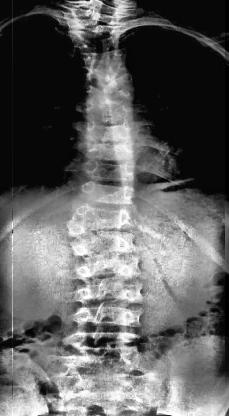Vertebrae: (74, 302, 146, 330), (72, 328, 144, 356), (67, 352, 143, 376), (74, 256, 139, 284), (72, 233, 134, 262), (75, 202, 133, 231), (83, 156, 140, 182), (60, 3, 128, 23), (76, 284, 144, 304), (80, 179, 136, 203), (81, 136, 141, 158), (82, 117, 138, 139), (84, 97, 138, 119), (63, 18, 128, 36), (84, 79, 136, 101), (79, 48, 129, 70), (73, 32, 127, 52), (84, 63, 132, 81)
